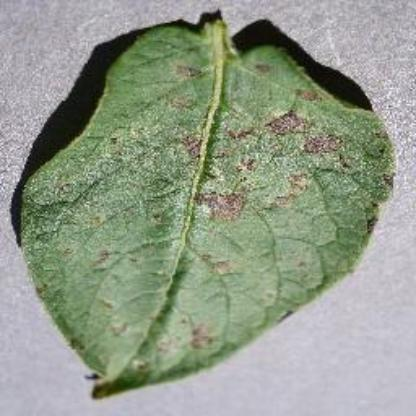Early-Blight: (12, 7, 402, 407)
